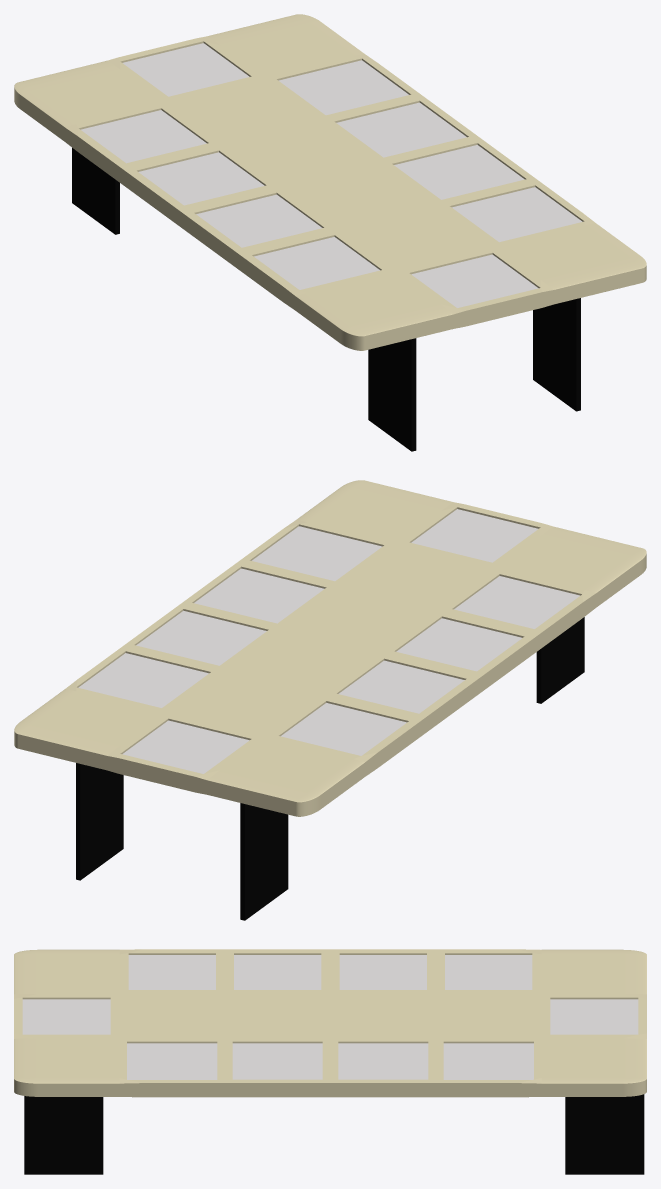
File: conference table.fbx
The picture shows the model from 3 angles, top to bottom: view 1: azimuth 30°, elevation 25°; view 2: azimuth 150°, elevation 25°; view 3: azimuth 270°, elevation 25°; orthographic projection. The views are drawn at different scales.
Visible parts, largest first — view 1: Cube, Plane, Leg, Leg.002, Leg.003; view 2: Cube, Plane, Leg.003, Leg.001, Leg; view 3: Cube, Plane, Leg.001, Leg.002.
Part boxes in pixels (box(x1,y1,x2,y2)): Cube: box(14, 14, 646, 350); Plane: box(81, 43, 582, 307); Leg: box(368, 338, 416, 451); Leg.002: box(533, 298, 580, 411); Leg.003: box(72, 148, 119, 234); Cube: box(14, 480, 646, 816); Plane: box(78, 509, 579, 773); Leg.003: box(240, 803, 288, 920); Leg.001: box(76, 763, 123, 880); Leg: box(536, 617, 584, 703); Cube: box(14, 949, 646, 1097); Plane: box(22, 955, 638, 1079); Leg.001: box(565, 1094, 644, 1174); Leg.002: box(24, 1096, 103, 1174).
Size of the model in its own units: 200 by 84.8 by 400.
